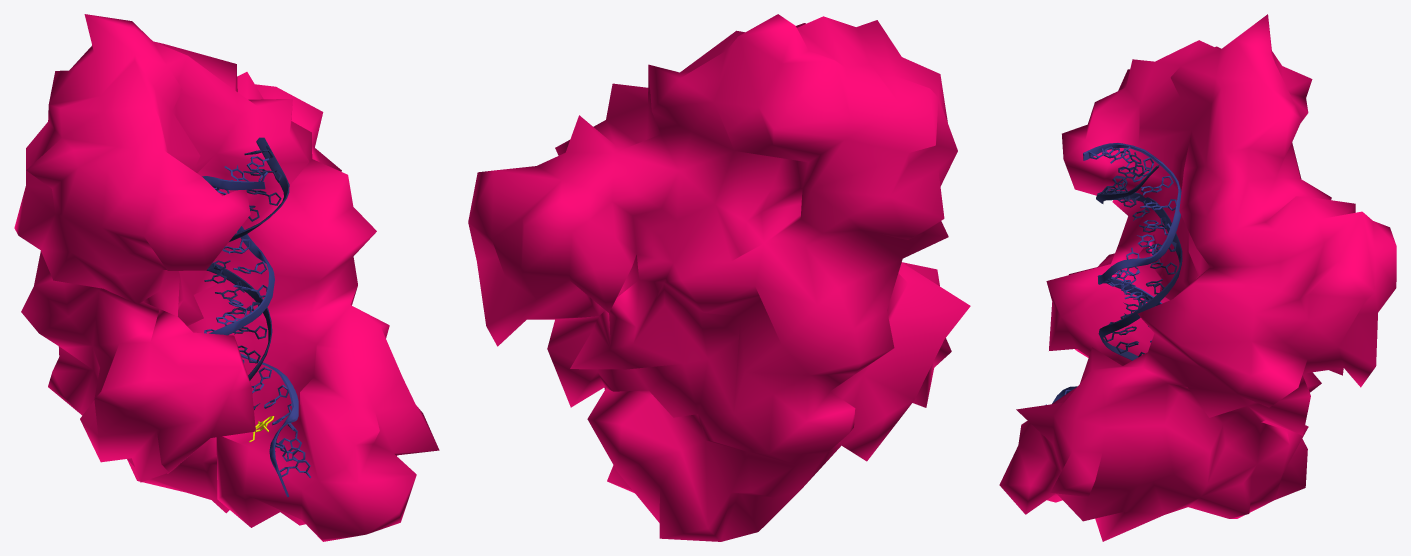
Rendered from 3DPX-015992.glb.
3 views of the same model, side by side, from view 1: azimuth 30°, elevation 25°; view 2: azimuth 150°, elevation 25°; view 3: azimuth 270°, elevation 25° (orthographic). The views are drawn at different scales.
Visible parts, largest first — view 1: PProtein, Template_Strand, New_Strand; view 2: PProtein; view 3: PProtein, New_Strand, Template_Strand.
Part boxes in pixels (<box>): PProtein: <box>14,14,439,541</box>; Template_Strand: <box>202,156,310,497</box>; New_Strand: <box>204,137,289,409</box>; PProtein: <box>468,14,970,541</box>; PProtein: <box>999,14,1396,541</box>; New_Strand: <box>1096,152,1182,360</box>; Template_Strand: <box>1045,143,1181,405</box>.
Bounding box in the file's own units: 0.222 × 0.2733 × 0.2183.
